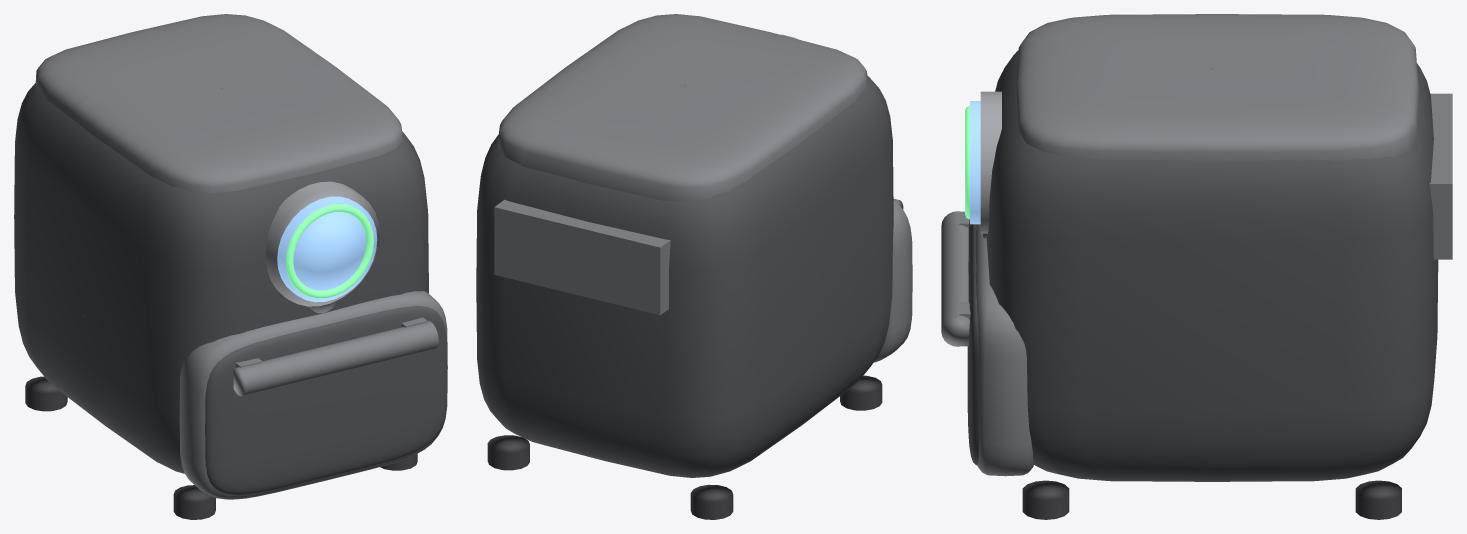
Rendered from air-fryer.glb.
The picture shows the model from 3 angles, left to right: view 1: azimuth 30°, elevation 25°; view 2: azimuth 150°, elevation 25°; view 3: azimuth 270°, elevation 25°; orthographic projection. The views are drawn at different scales.
Visible parts, largest first — view 1: body, crown, drawer-face, drawer, control-face, handle, control-ring, foot (×2), temp-ring; view 2: body, crown, rear-vent, foot (×3), drawer; view 3: body, crown, drawer, rear-vent, handle, foot (×2), drawer-face, control-ring, control-face.
Part boxes in pixels (box(x1,y1,x2,y2)): body: box(14, 83, 428, 473); crown: box(35, 14, 402, 193); drawer-face: box(205, 306, 446, 494); drawer: box(179, 291, 447, 499); control-face: box(277, 196, 377, 302); handle: box(233, 320, 438, 396); control-ring: box(265, 181, 379, 306); foot (×2): box(25, 376, 215, 519); temp-ring: box(285, 204, 373, 298); body: box(476, 75, 893, 477); crown: box(498, 14, 867, 202); rear-vent: box(494, 199, 670, 315); foot (×3): box(487, 375, 882, 519); drawer: box(874, 199, 912, 362); body: box(986, 50, 1438, 481); crown: box(1015, 14, 1419, 160); drawer: box(976, 224, 1033, 476); rear-vent: box(1429, 93, 1452, 259); handle: box(941, 211, 969, 346); foot (×2): box(1022, 480, 1401, 519); drawer-face: box(967, 219, 979, 465); control-ring: box(980, 91, 1001, 233); control-face: box(970, 101, 980, 224).
Size of the model in its own units: 0.3 by 0.358 by 0.43.
